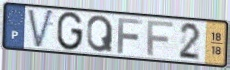2: (178, 22, 202, 63)
F: (116, 16, 145, 55), (146, 20, 175, 58)
G: (55, 11, 85, 53)
Q: (86, 14, 115, 54)
V: (26, 8, 56, 51)
